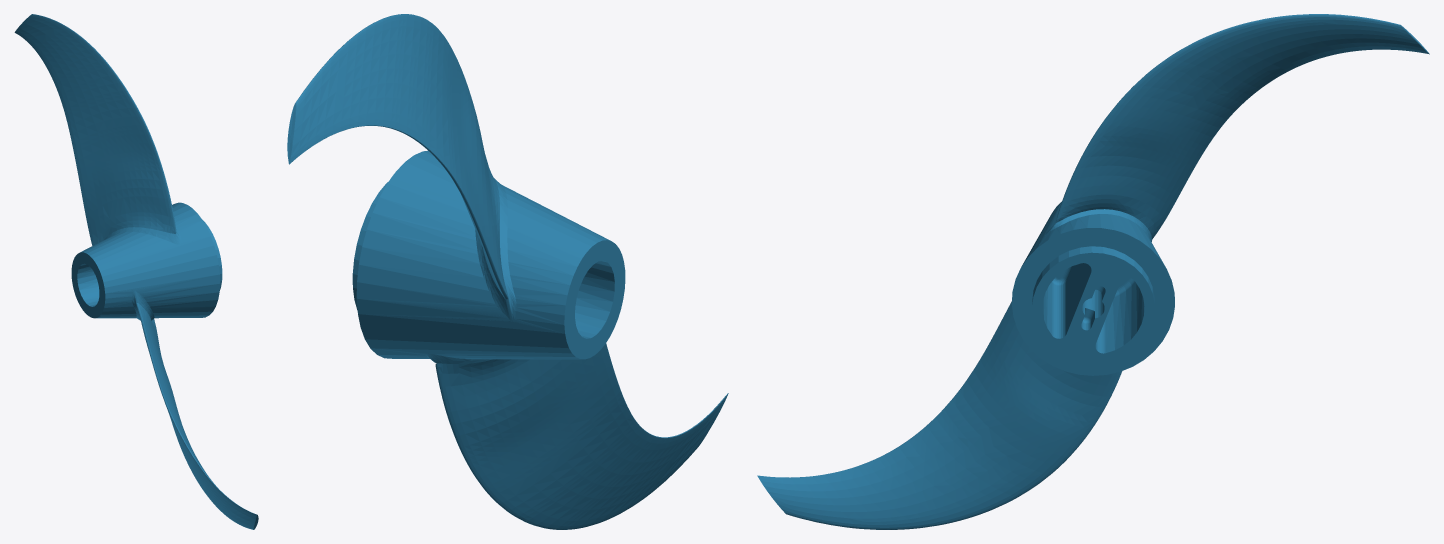
File: simple_propeller.dae
The picture shows the model from 3 angles, left to right: view 1: azimuth 30°, elevation 25°; view 2: azimuth 150°, elevation 25°; view 3: azimuth 270°, elevation 25°; orthographic projection. The views are drawn at different scales.
Visible parts, largest first — view 1: Shape_IndexedFaceSet_001; view 2: Shape_IndexedFaceSet_001; view 3: Shape_IndexedFaceSet_001.
Part boxes in pixels (box(x1,y1,x2,y2)): Shape_IndexedFaceSet_001: box(14, 14, 258, 529); Shape_IndexedFaceSet_001: box(287, 14, 728, 529); Shape_IndexedFaceSet_001: box(757, 14, 1429, 529).
Bounding box in the file's own units: 0.0556 × 0.209 × 0.1767.
